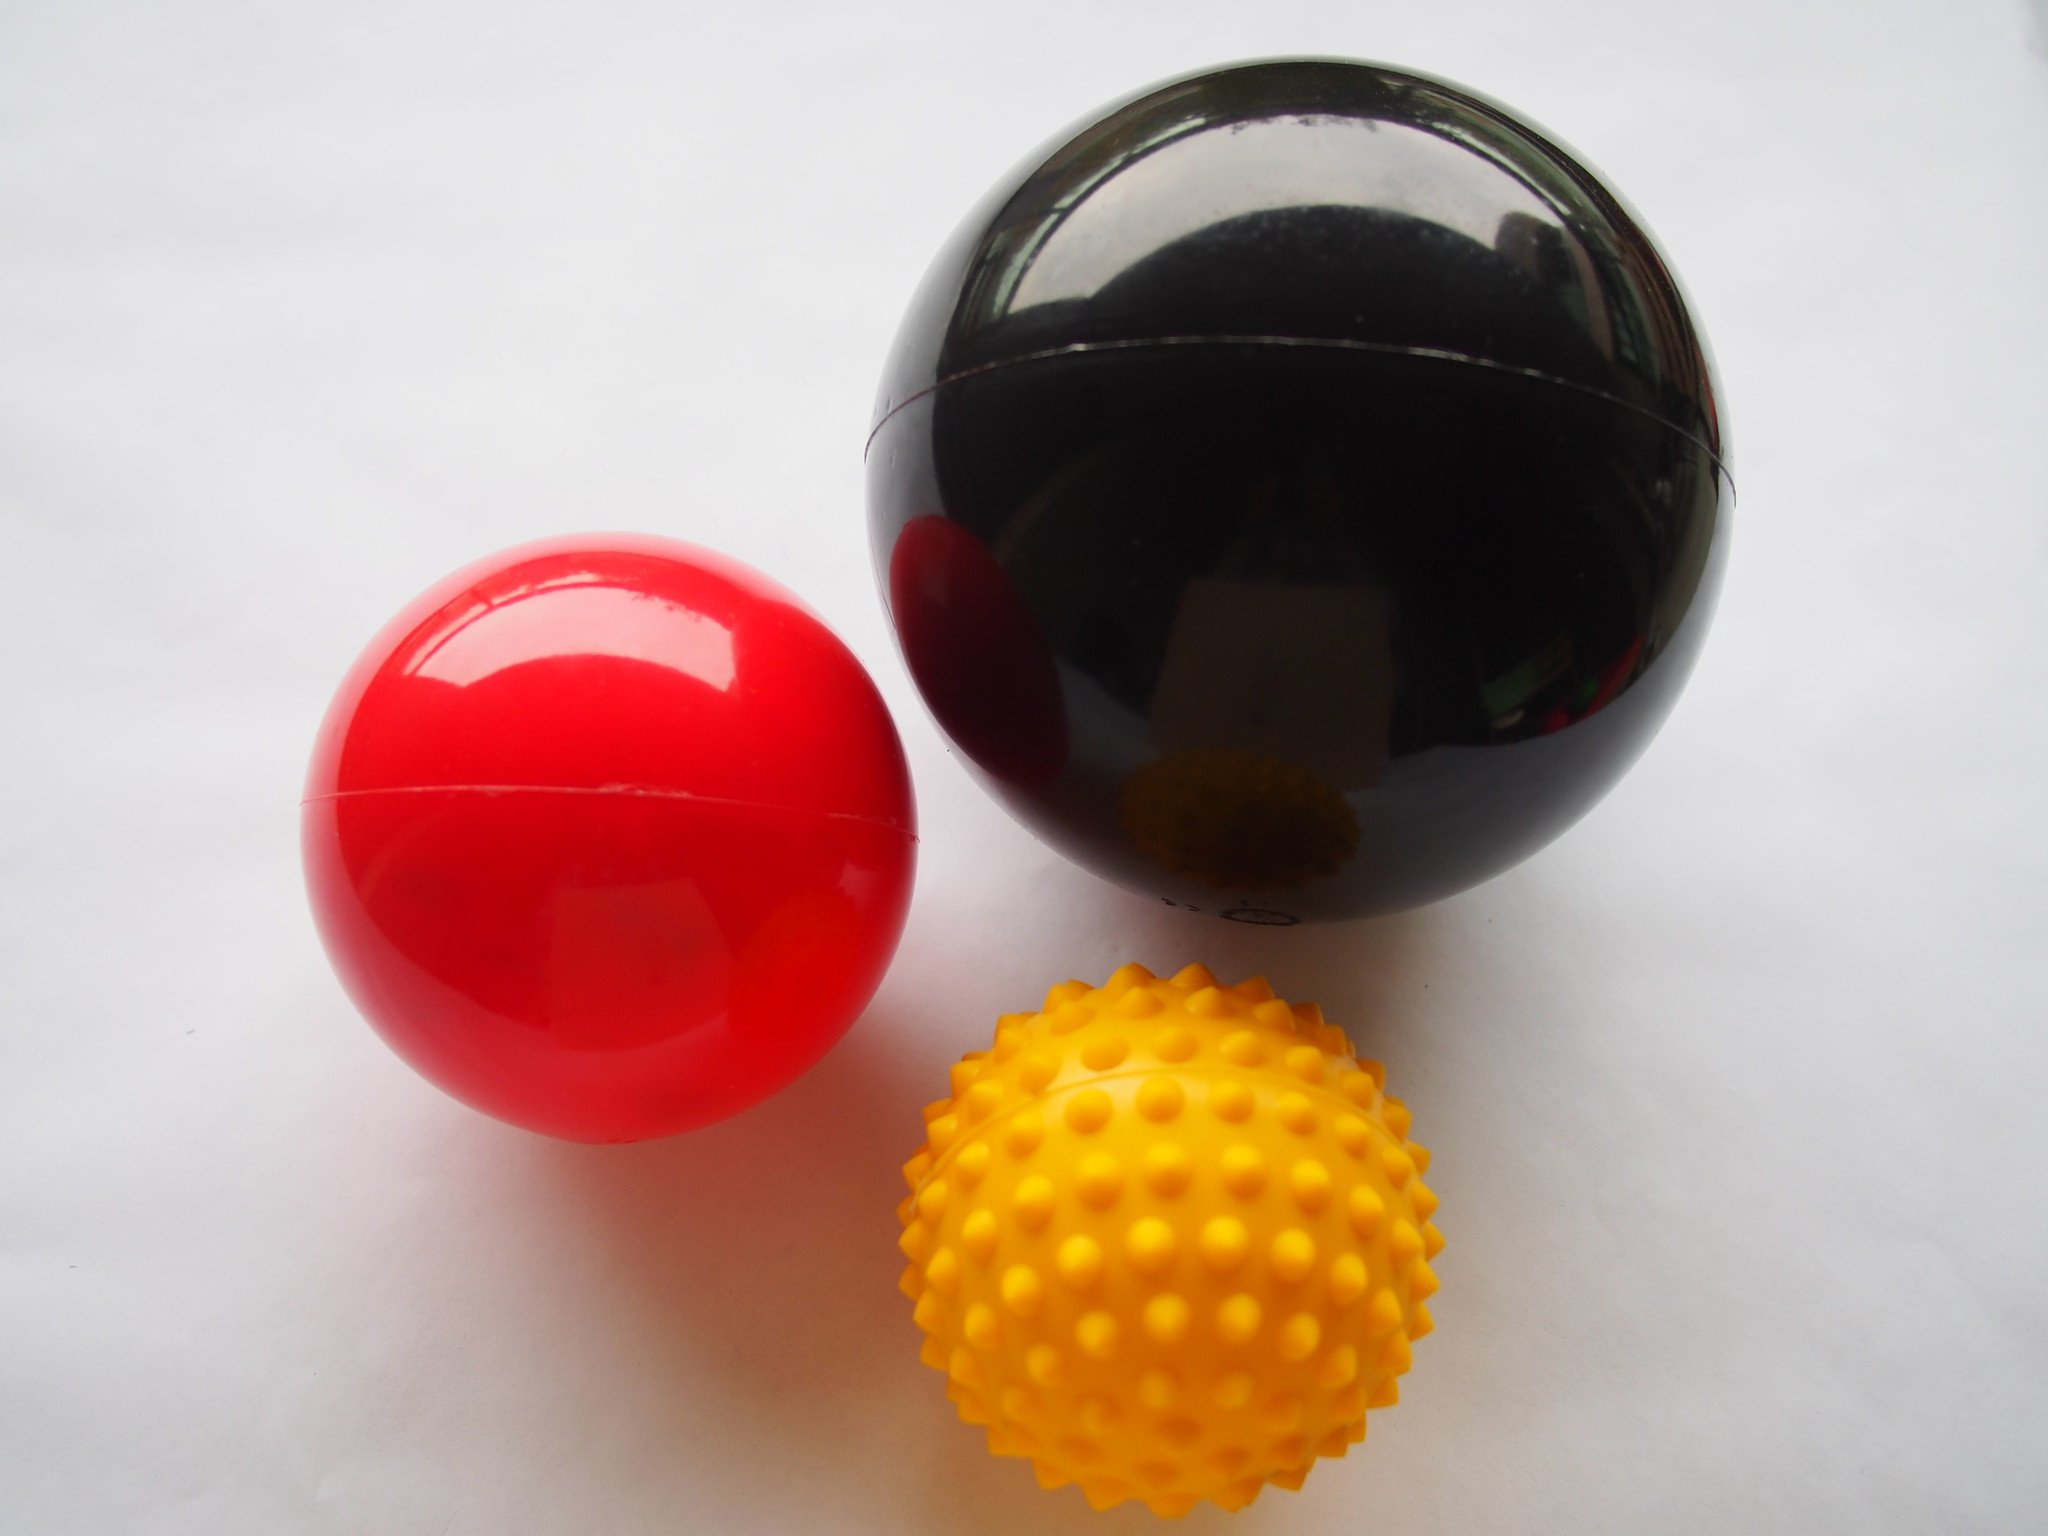red ball: (302, 528, 927, 1160)
